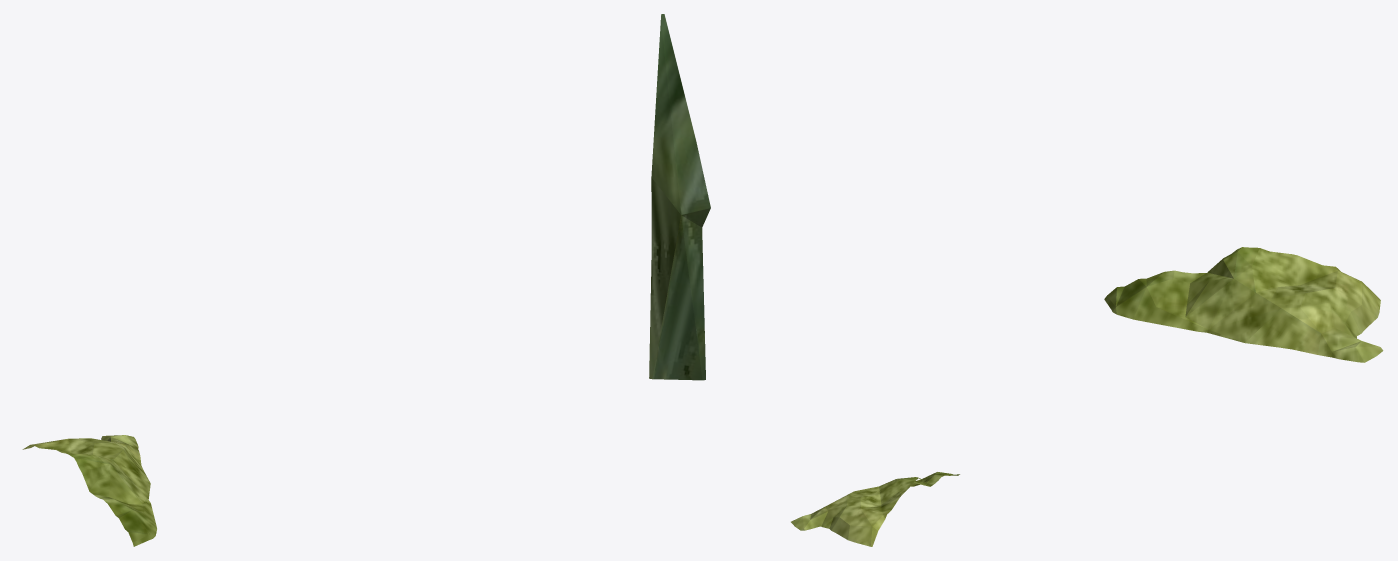
3 views of the same model, side by side, from view 1: azimuth 30°, elevation 25°; view 2: azimuth 150°, elevation 25°; view 3: azimuth 270°, elevation 25° (orthographic). The views are drawn at different scales.
Bounding box in the file's own units: 2.95 × 2.95 × 1.96.
1 material, 1 textured.
